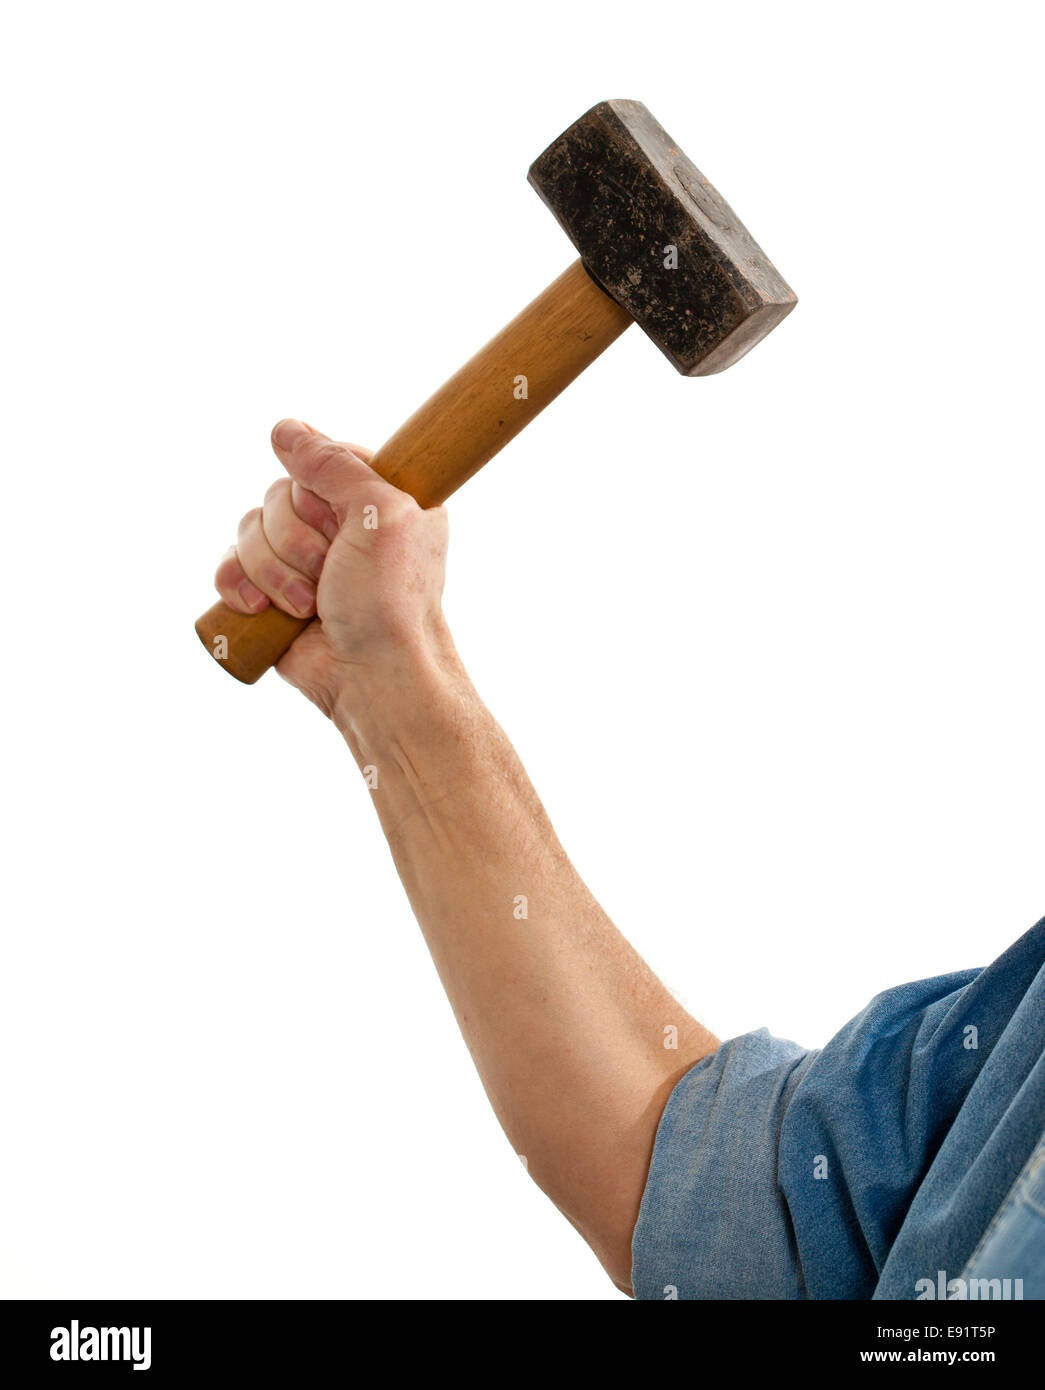hammer: (191, 93, 804, 692)
